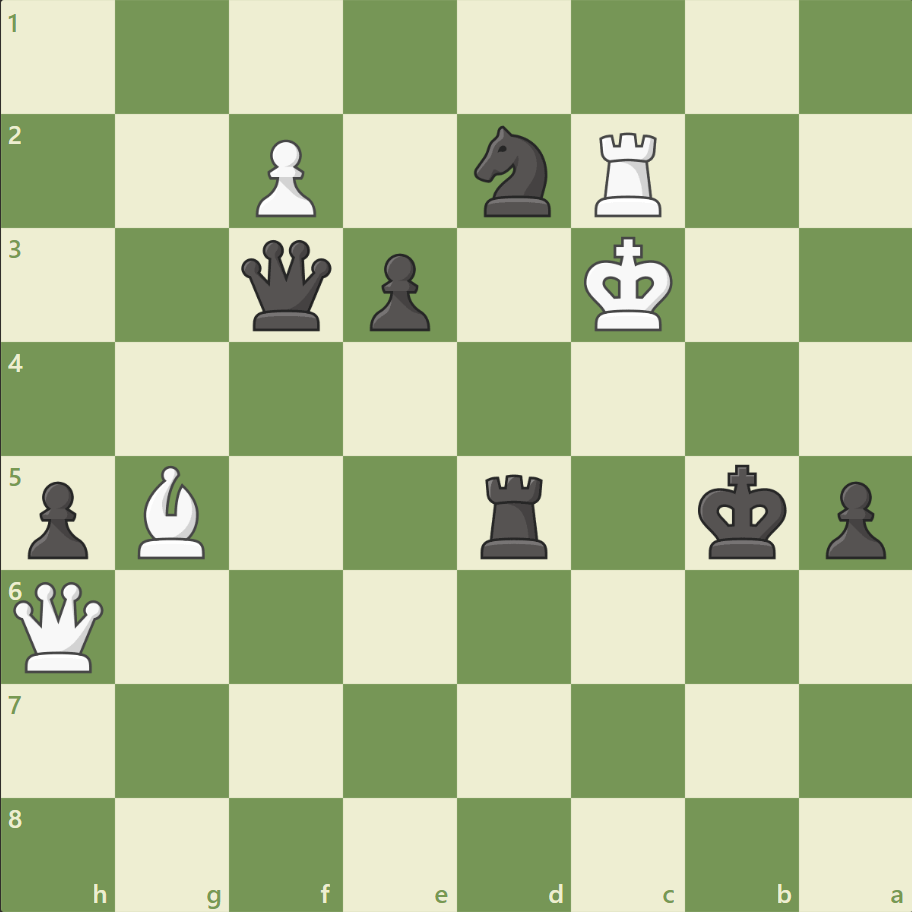B: (131, 460, 215, 563)
K: (579, 231, 679, 339)
P: (247, 132, 322, 223)
Q: (10, 576, 109, 676)
R: (587, 125, 670, 222)
k: (692, 458, 792, 566)
n: (465, 121, 562, 223)
p: (20, 473, 95, 564), (815, 473, 889, 564), (361, 246, 435, 337)
q: (237, 236, 336, 335)
r: (473, 466, 556, 563)
